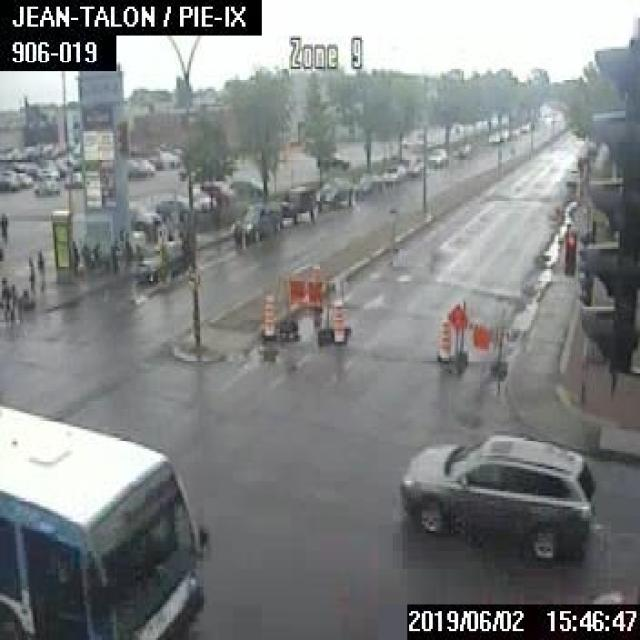bus: (0, 398, 205, 638)
construction: (447, 299, 507, 376), (274, 270, 333, 342), (258, 293, 274, 337), (436, 318, 450, 362), (331, 300, 344, 342)
pedestrian: (122, 240, 142, 269), (17, 288, 34, 321), (0, 277, 9, 323), (25, 254, 35, 292), (107, 244, 118, 274), (36, 249, 44, 289), (9, 282, 17, 320), (80, 241, 91, 267), (0, 211, 9, 242), (69, 238, 76, 271), (92, 240, 100, 266)
vehicle: (398, 429, 598, 558), (132, 242, 189, 283), (231, 202, 279, 242), (278, 184, 314, 222), (314, 177, 355, 210), (176, 187, 214, 210), (198, 180, 234, 203), (127, 202, 160, 226), (229, 176, 261, 197), (354, 171, 378, 196), (380, 162, 404, 185), (155, 195, 187, 211), (315, 152, 347, 168), (151, 150, 179, 168), (33, 175, 58, 194), (62, 170, 88, 187), (426, 146, 446, 166), (404, 154, 421, 176), (125, 158, 145, 176), (0, 174, 18, 190), (451, 142, 470, 156), (14, 171, 32, 185), (486, 128, 502, 142), (138, 158, 152, 173), (565, 168, 578, 184)
